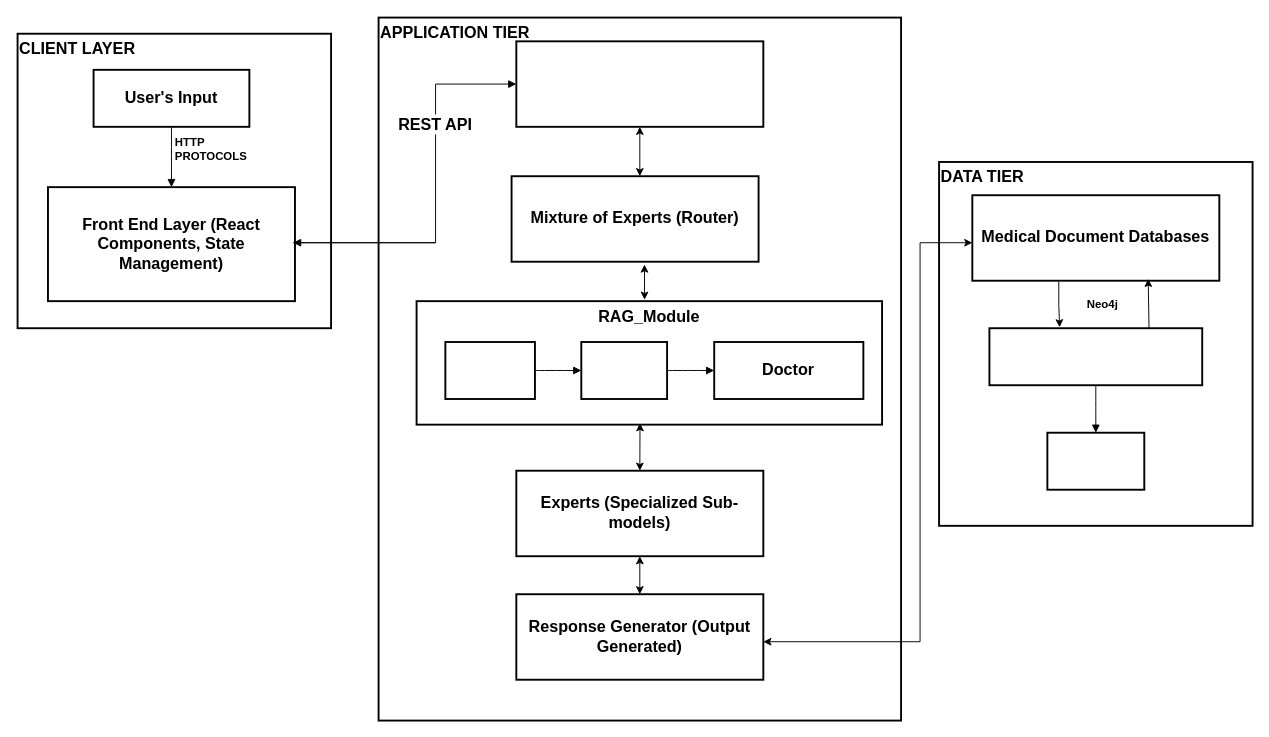
The diagram is 1269 pixels wide and 737 high, and some of its shapes have lost their labels. The centre of each missing label's shape, as x and y in pixels:
"Analyzer" goes at [624,370].
"FAQs" goes at [1095,460].
"Knowledge Graph" goes at [1095,356].
"Retriever" goes at [489,370].
"User Management (Session Context)" goes at [639,83].
